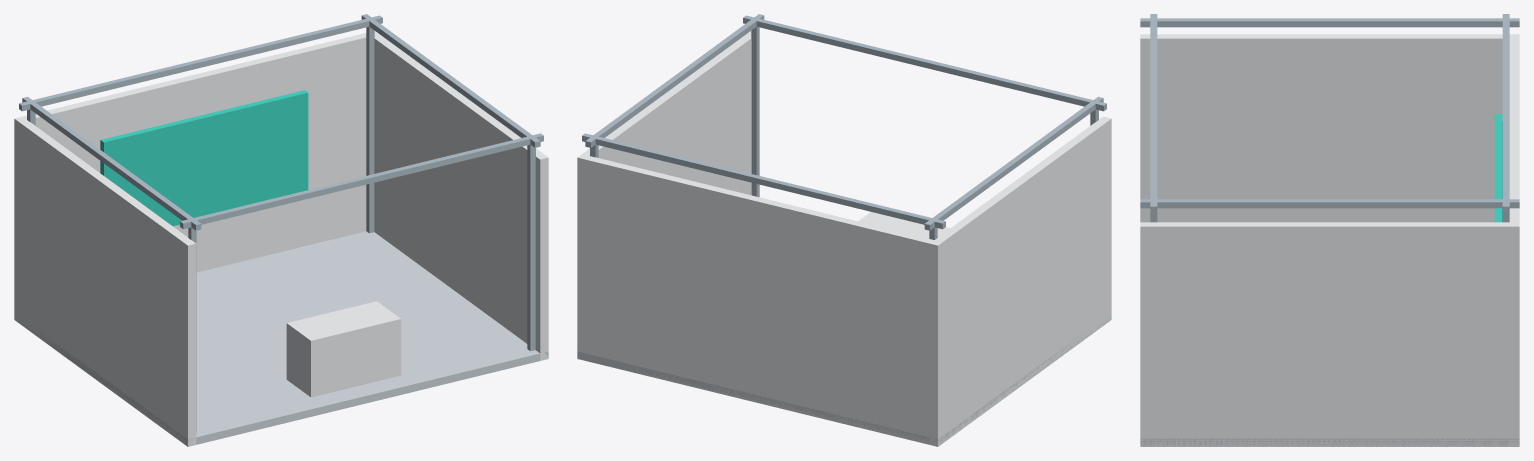
The picture shows the model from 3 angles, left to right: view 1: azimuth 30°, elevation 25°; view 2: azimuth 150°, elevation 25°; view 3: azimuth 270°, elevation 25°; orthographic projection. The views are drawn at different scales.
Parts seen in each view (by area): view 1: Exhibition Booth Concept; view 2: Exhibition Booth Concept; view 3: Exhibition Booth Concept.
Boxes of the visible parts, bbox=[...] form: Exhibition Booth Concept: bbox=[14, 14, 548, 446]; Exhibition Booth Concept: bbox=[577, 14, 1111, 446]; Exhibition Booth Concept: bbox=[1140, 14, 1519, 446].
Bounding box in the file's own units: 6 × 3.49 × 5.
